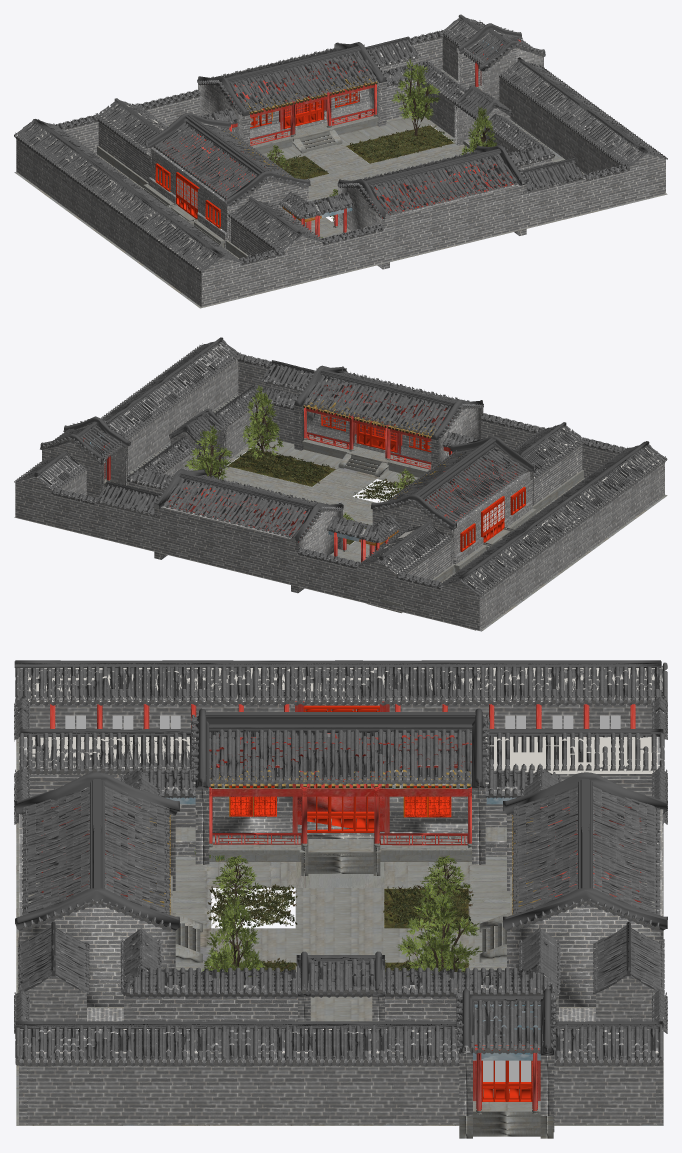
The model's file is siheyuan.glb.
3 views of the same model, one above another, from view 1: azimuth 30°, elevation 25°; view 2: azimuth 150°, elevation 25°; view 3: azimuth 270°, elevation 25° (orthographic). The views are drawn at different scales.
Parts seen in each view (by area): view 1: Siheyuan Mesh; view 2: Siheyuan Mesh; view 3: Siheyuan Mesh.
Part boxes in pixels (bbox=[...]): Siheyuan Mesh: bbox=[14, 14, 667, 308]; Siheyuan Mesh: bbox=[14, 337, 667, 631]; Siheyuan Mesh: bbox=[14, 660, 667, 1138].
Bounding box in the file's own units: 17.02 × 2.8 × 11.5.
Materials: 25 (20 with a texture image).
